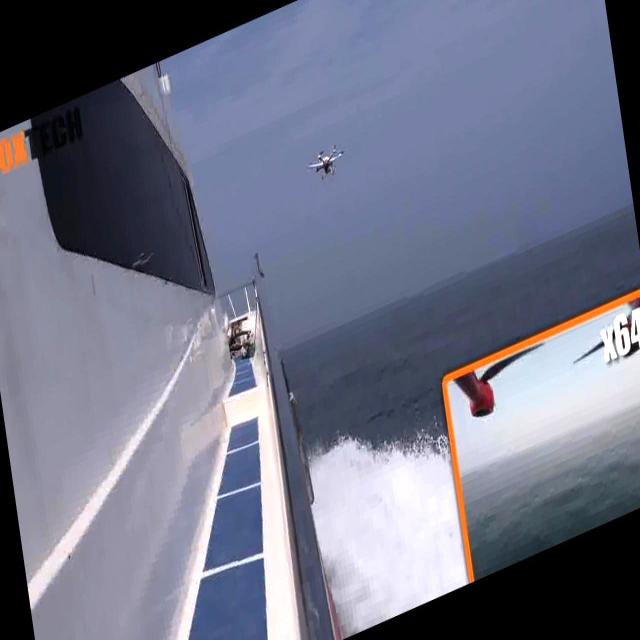drone: (304, 136, 348, 194)
